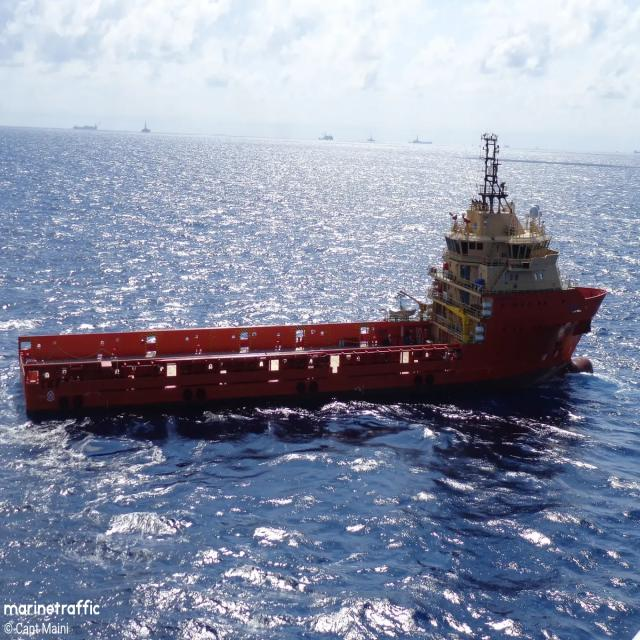Offshore: (19, 134, 606, 419)
